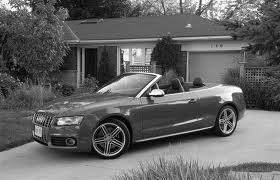car: (34, 71, 245, 160)
